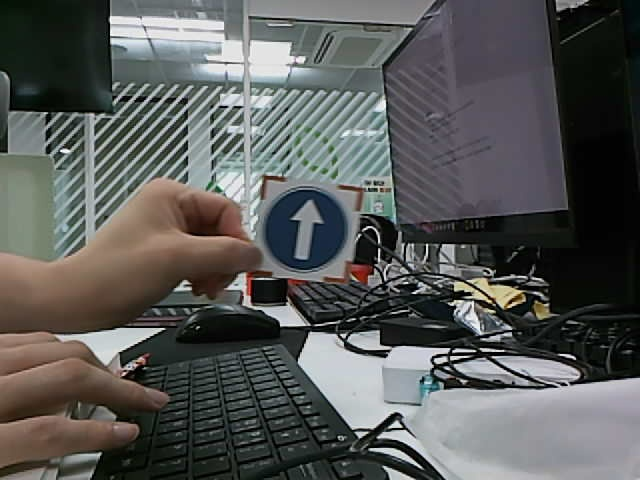go: (264, 187, 348, 273)
